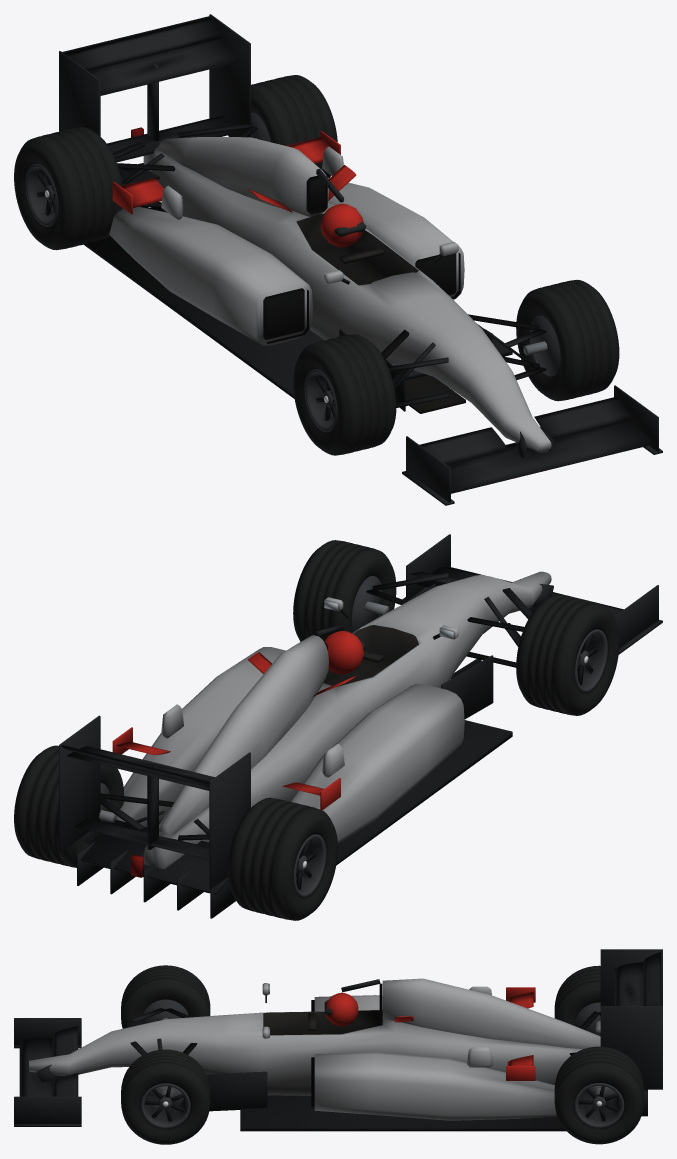
File: mclaren-mp4-20-mercedes.glb
3 renders of one model, top to bottom at view 1: azimuth 30°, elevation 25°; view 2: azimuth 150°, elevation 25°; view 3: azimuth 270°, elevation 25°, orthographic. The views are drawn at different scales.
Visible parts, largest first — view 1: Body, Wheel_RR, Wheel_FR, Wheel_FL, Wheel_RL; view 2: Body, Wheel_RR, Wheel_FR, Wheel_FL, Wheel_RL; view 3: Body, Wheel_RL, Wheel_FL, Wheel_FR, Wheel_RR.
Part boxes in pixels (<box>): Body: <box>59,14,662,505</box>; Wheel_RR: <box>14,127,122,250</box>; Wheel_FR: <box>293,334,396,455</box>; Wheel_FL: <box>516,279,619,401</box>; Wheel_RL: <box>228,75,337,177</box>; Body: <box>59,534,662,918</box>; Wheel_RR: <box>228,797,337,920</box>; Wheel_FR: <box>516,594,619,715</box>; Wheel_FL: <box>293,540,396,641</box>; Wheel_RL: <box>14,745,123,867</box>; Body: <box>14,949,662,1131</box>; Wheel_RL: <box>554,1046,643,1144</box>; Wheel_FL: <box>121,1049,210,1144</box>; Wheel_FR: <box>121,965,210,1028</box>; Wheel_RR: <box>554,965,600,1033</box>.
Size of the model in its own units: 1.82 by 0.9599 by 4.79.
